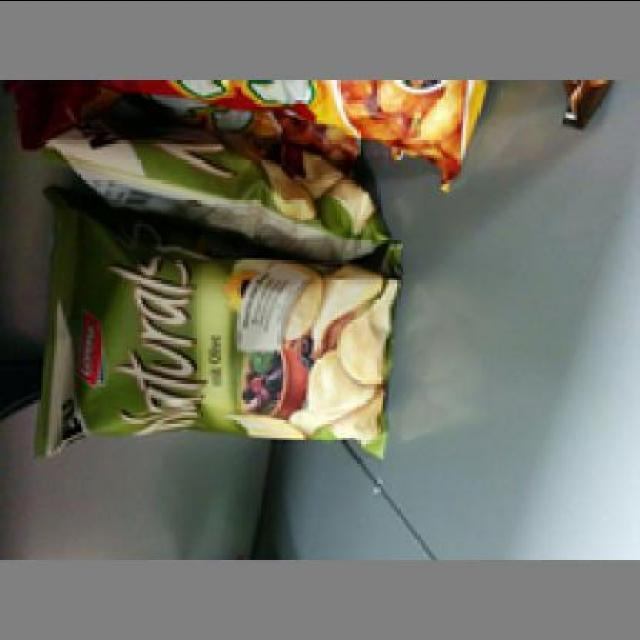Chips: (40, 246, 400, 454)
